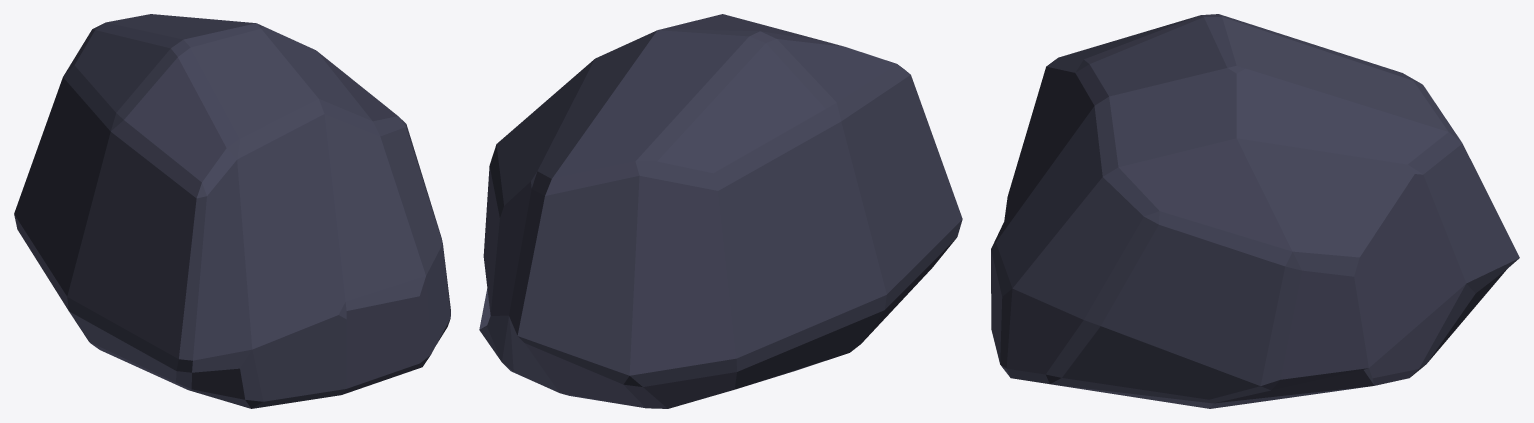
Rendered from Piedra2.fbx.
The picture shows the model from 3 angles, left to right: view 1: azimuth 30°, elevation 25°; view 2: azimuth 150°, elevation 25°; view 3: azimuth 270°, elevation 25°; orthographic projection. The views are drawn at different scales.
Parts seen in each view (by area): view 1: Cube; view 2: Cube; view 3: Cube.
Part boxes in pixels (<box>): Cube: <box>14,14,450,408</box>; Cube: <box>479,14,962,408</box>; Cube: <box>991,14,1519,408</box>.
Bounding box in the file's own units: 127 × 110 × 161.
